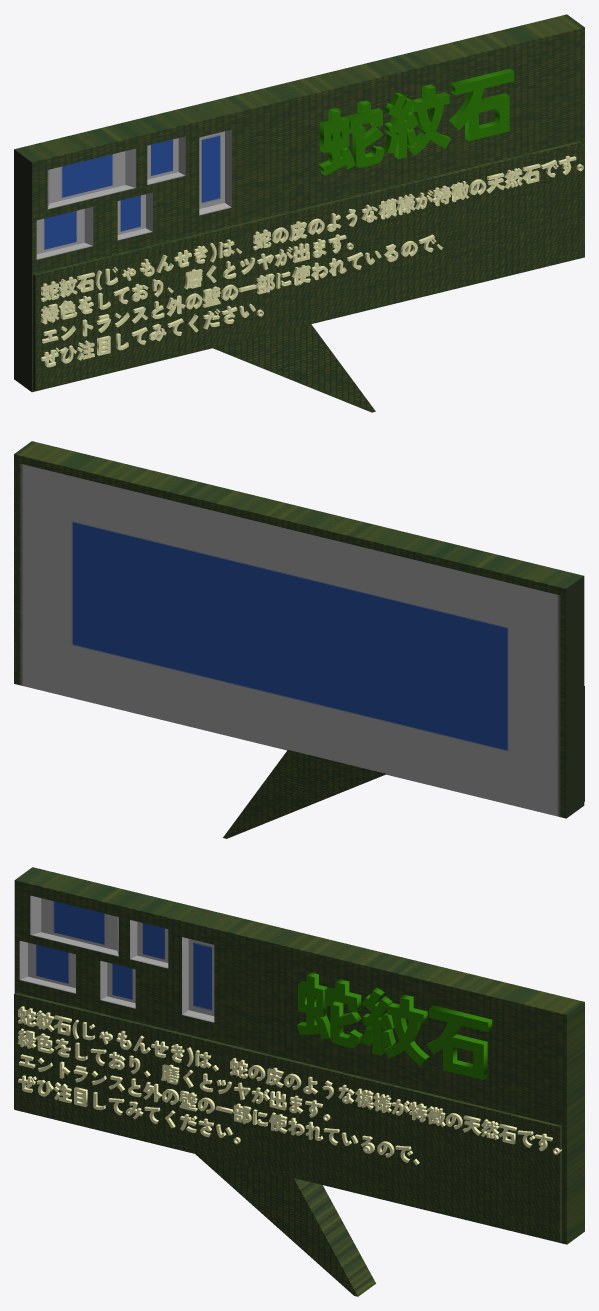
Rendered from fukidasi-jaryuseki.glb.
3 renders of one model, top to bottom at view 1: azimuth 30°, elevation 25°; view 2: azimuth 150°, elevation 25°; view 3: azimuth 330°, elevation 25°, orthographic.
Visible parts, largest first — view 1: 立方体, 立方体.002, テキスト, テキスト.002, 立方体.001; view 2: 立方体, 立方体.001; view 3: 立方体, 立方体.002, テキスト, テキスト.002, 立方体.001.
Boxes of the visible parts, x1,y1,x2,y2 form: 立方体: [14, 14, 584, 392]; 立方体.002: [33, 141, 581, 390]; テキスト: [40, 155, 583, 367]; テキスト.002: [319, 68, 514, 175]; 立方体.001: [212, 324, 375, 412]; 立方体: [14, 441, 584, 818]; 立方体.001: [223, 750, 386, 838]; 立方体: [14, 867, 584, 1244]; 立方体.002: [14, 992, 561, 1242]; テキスト: [17, 1006, 561, 1165]; テキスト.002: [297, 972, 492, 1079]; 立方体.001: [195, 1153, 375, 1296].
Bounding box in the file's own units: 11.12 × 6.4 × 0.7737.
Materials: 5 (3 with a texture image).
